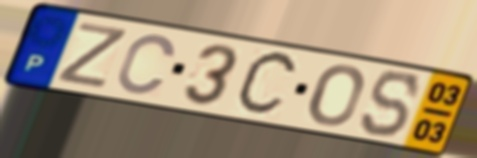3: (181, 43, 240, 108)
C: (231, 49, 302, 120), (114, 32, 179, 97)
O: (306, 63, 366, 128)
S: (357, 69, 424, 139)
Z: (53, 20, 133, 92)
